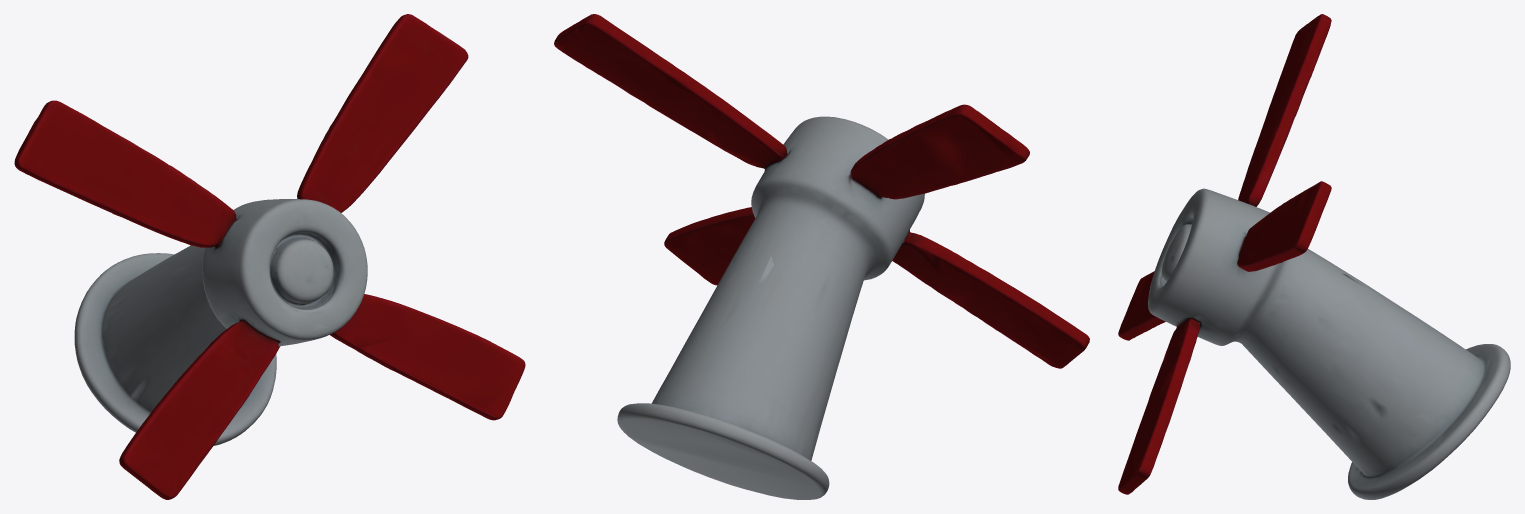
Rendered from obstacle_rotatingblade.glb.
The picture shows the model from 3 angles, left to right: view 1: azimuth 30°, elevation 25°; view 2: azimuth 150°, elevation 25°; view 3: azimuth 270°, elevation 25°; orthographic projection. The views are drawn at different scales.
Visible parts, largest first — view 1: model; view 2: model; view 3: model.
Boxes of the visible parts, bbox=[...] form: model: bbox=[14, 14, 525, 499]; model: bbox=[554, 14, 1089, 499]; model: bbox=[1118, 14, 1510, 499].
Size of the model in its own units: 1.9 by 1.61 by 1.48.
Materials: 1 (1 with a texture image).
